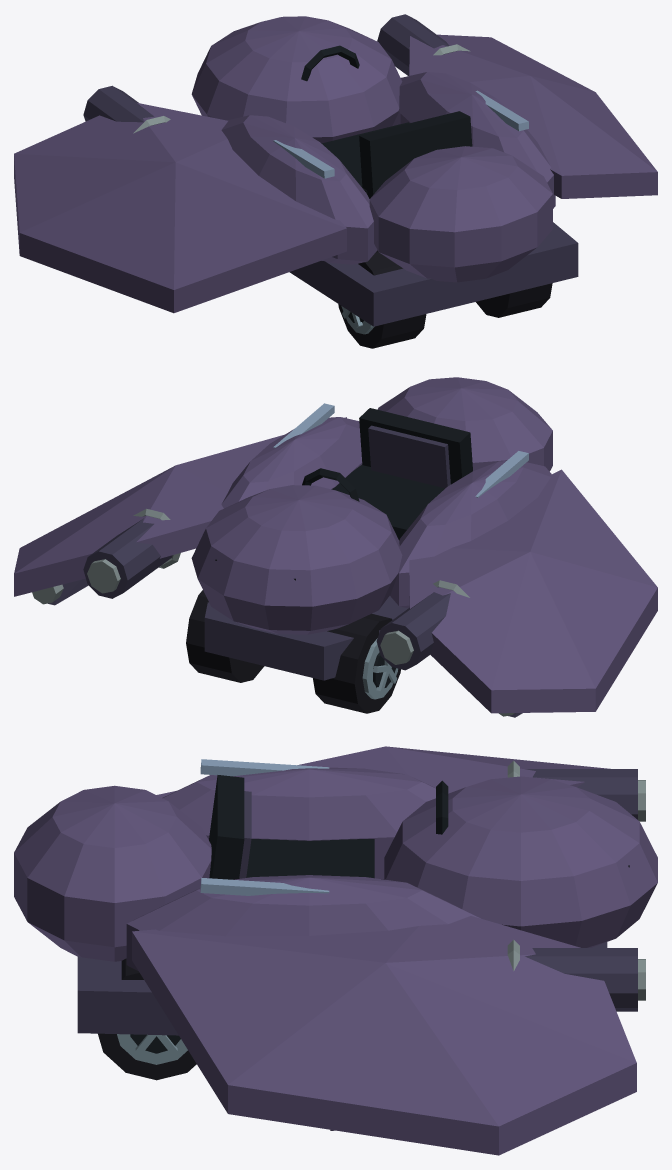
File: kart.glb
3 views of the same model, one above another, from view 1: azimuth 30°, elevation 25°; view 2: azimuth 150°, elevation 25°; view 3: azimuth 270°, elevation 25° (orthographic). The views are drawn at different scales.
Visible parts, largest first — view 1: identity-banshee-banshee-curved-body-and-drooping-wings, identity-banshee-driver-cockpit, identity-banshee-motif-plasma, wheel-rear-left, wheel-rear-right; view 2: identity-banshee-banshee-curved-body-and-drooping-wings, identity-banshee-driver-cockpit, identity-banshee-motif-plasma, wheel-front-left, wheel-front-right; view 3: identity-banshee-banshee-curved-body-and-drooping-wings, identity-banshee-driver-cockpit, identity-banshee-motif-plasma, wheel-rear-right.
Boxes of the visible parts, x1=… form: identity-banshee-banshee-curved-body-and-drooping-wings: x1=14, y1=16, x2=657, y2=326; identity-banshee-driver-cockpit: x1=301, y1=45, x2=472, y2=198; identity-banshee-motif-plasma: x1=83, y1=14, x2=470, y2=133; wheel-rear-left: x1=338, y1=250, x2=426, y2=348; wheel-rear-right: x1=476, y1=283, x2=552, y2=317; identity-banshee-banshee-curved-body-and-drooping-wings: x1=14, y1=377, x2=657, y2=717; identity-banshee-driver-cockpit: x1=302, y1=408, x2=472, y2=540; identity-banshee-motif-plasma: x1=83, y1=508, x2=469, y2=670; wheel-front-left: x1=313, y1=613, x2=400, y2=713; wheel-front-right: x1=186, y1=590, x2=264, y2=682; identity-banshee-banshee-curved-body-and-drooping-wings: x1=14, y1=746, x2=657, y2=1155; identity-banshee-driver-cockpit: x1=209, y1=775, x2=448, y2=879; identity-banshee-motif-plasma: x1=507, y1=760, x2=645, y2=1011; wheel-rear-right: x1=98, y1=958, x2=196, y2=1080.
Bounding box in the file's own units: 3.38 × 1.09 × 2.61.
